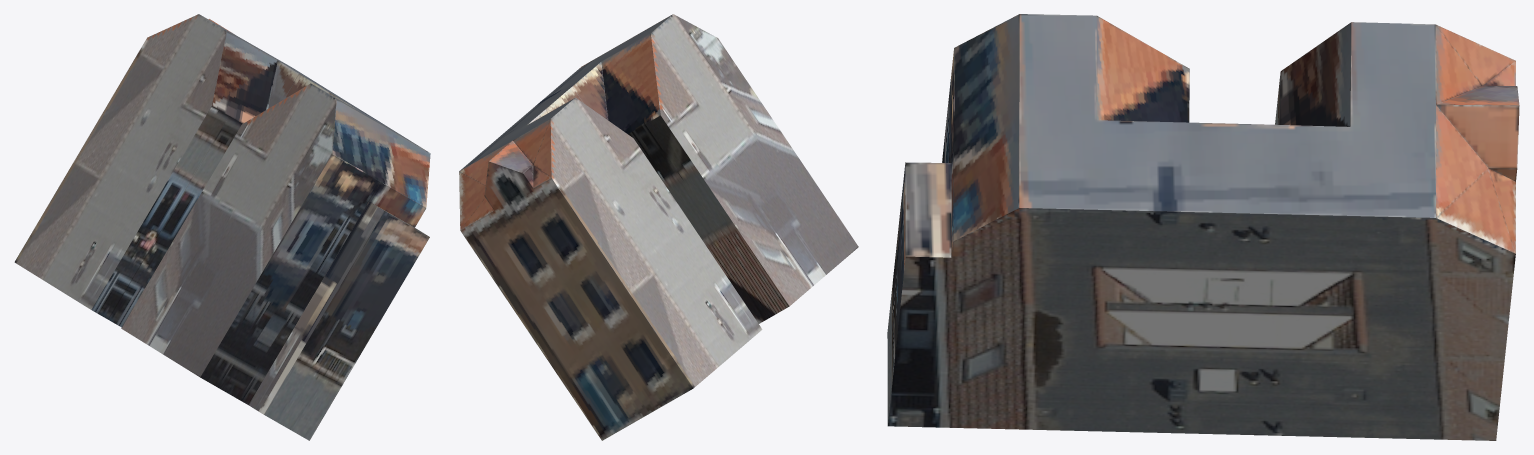
3 renders of one model, left to right at view 1: azimuth 30°, elevation 25°; view 2: azimuth 150°, elevation 25°; view 3: azimuth 270°, elevation 25°, orthographic. The views are drawn at different scales.
Parts seen in each view (by area): view 1: BAG_0599100000670776 (×4); view 2: BAG_0599100000670776 (×5); view 3: BAG_0599100000670776 (×6).
Part boxes in pixels (x1,y1,x2,y2): BAG_0599100000670776 (×4): [14, 14, 430, 440]; BAG_0599100000670776 (×5): [459, 14, 858, 440]; BAG_0599100000670776 (×6): [887, 14, 1519, 440].
Bounding box in the file's own units: 12.93 × 14.35 × 16.87.
Materials: 1 (1 with a texture image).
